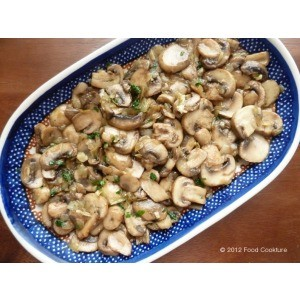mushroom_brain food: (65, 79, 229, 190)
